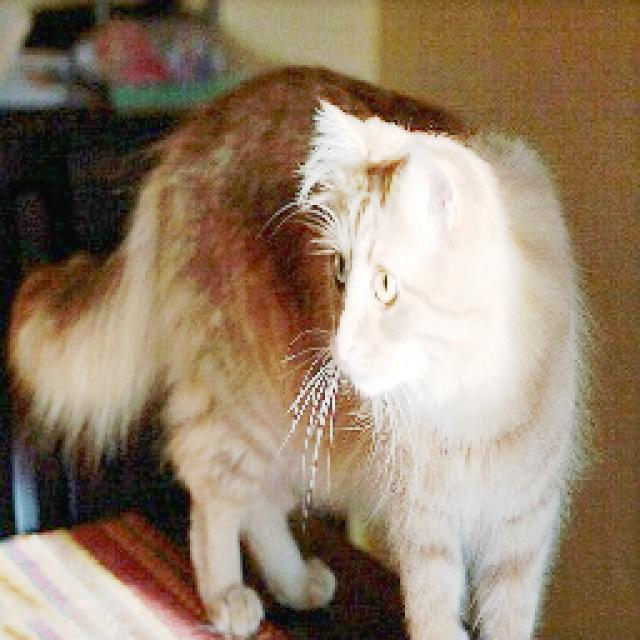cat: (0, 39, 599, 640)
